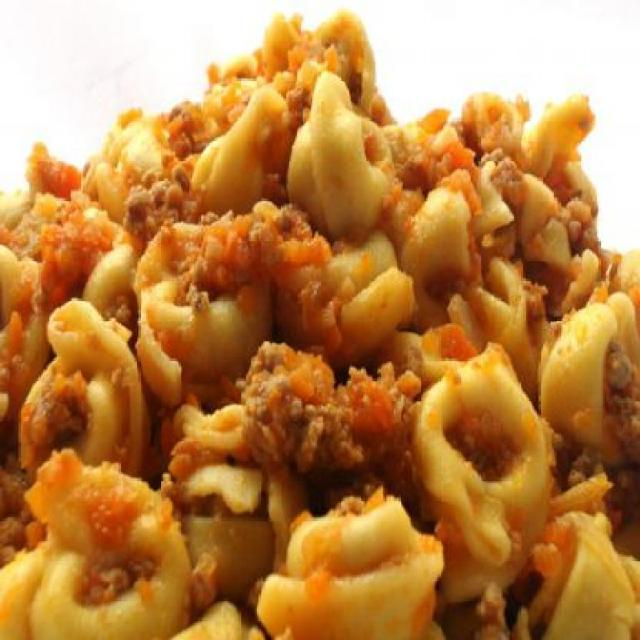Pasta al ragu: (12, 14, 638, 638)
